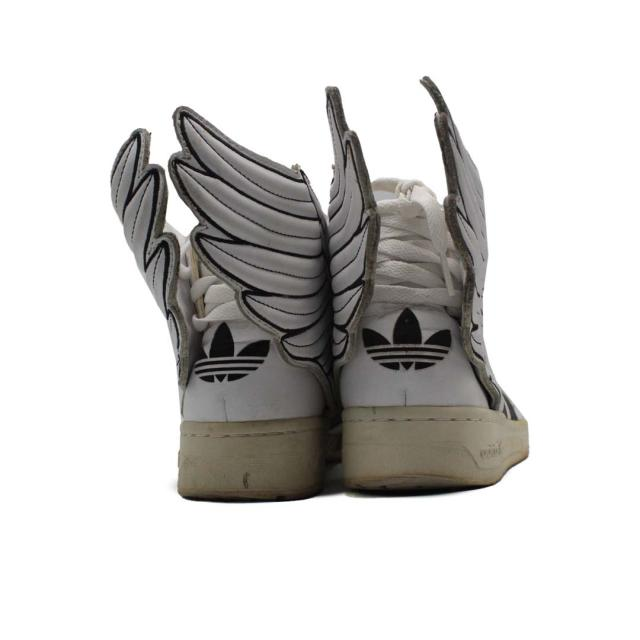heel: (100, 111, 320, 422), (319, 75, 508, 410)
midsole: (180, 417, 530, 500)
